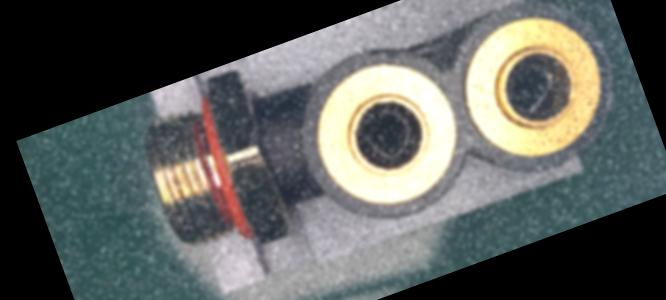bump: (365, 37, 405, 66)
off-centered: (352, 98, 423, 168), (494, 52, 567, 120)
white mark: (278, 154, 301, 176)
